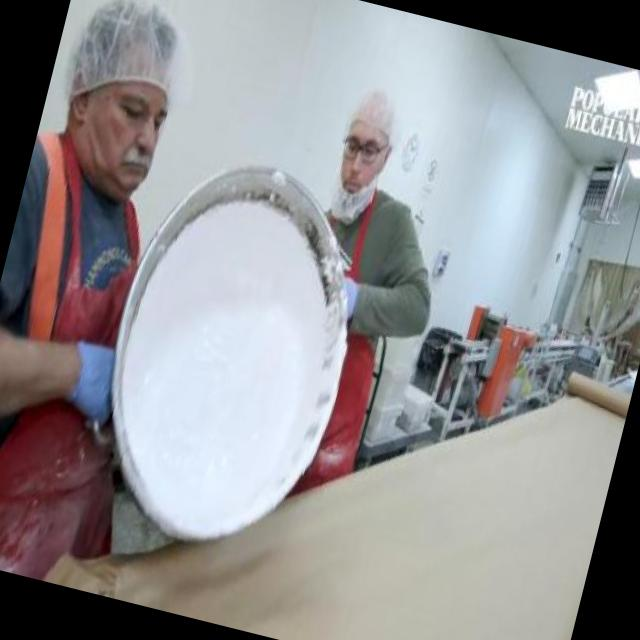hairnet: (62, 0, 199, 118), (350, 85, 409, 146)
